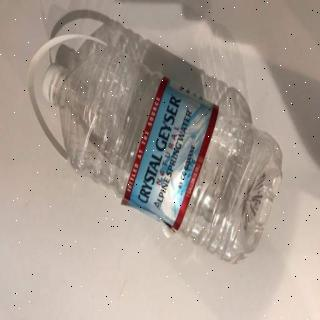Plastic-bottle: (40, 38, 284, 265)
